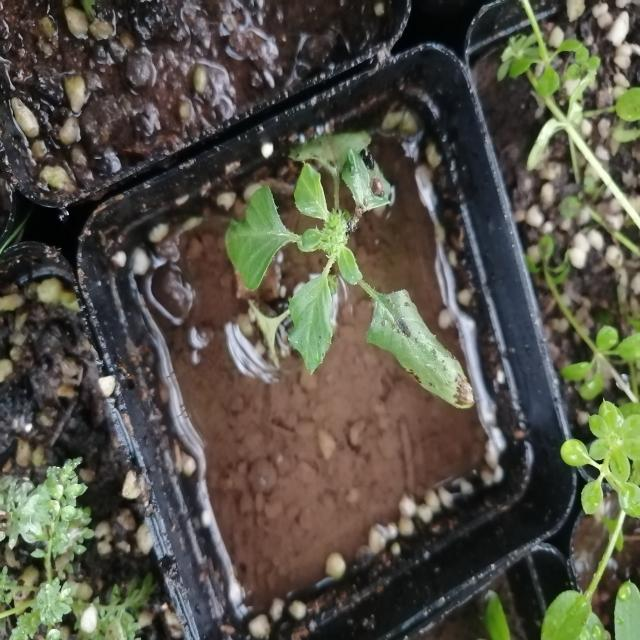pigweed: (247, 138, 461, 408)
